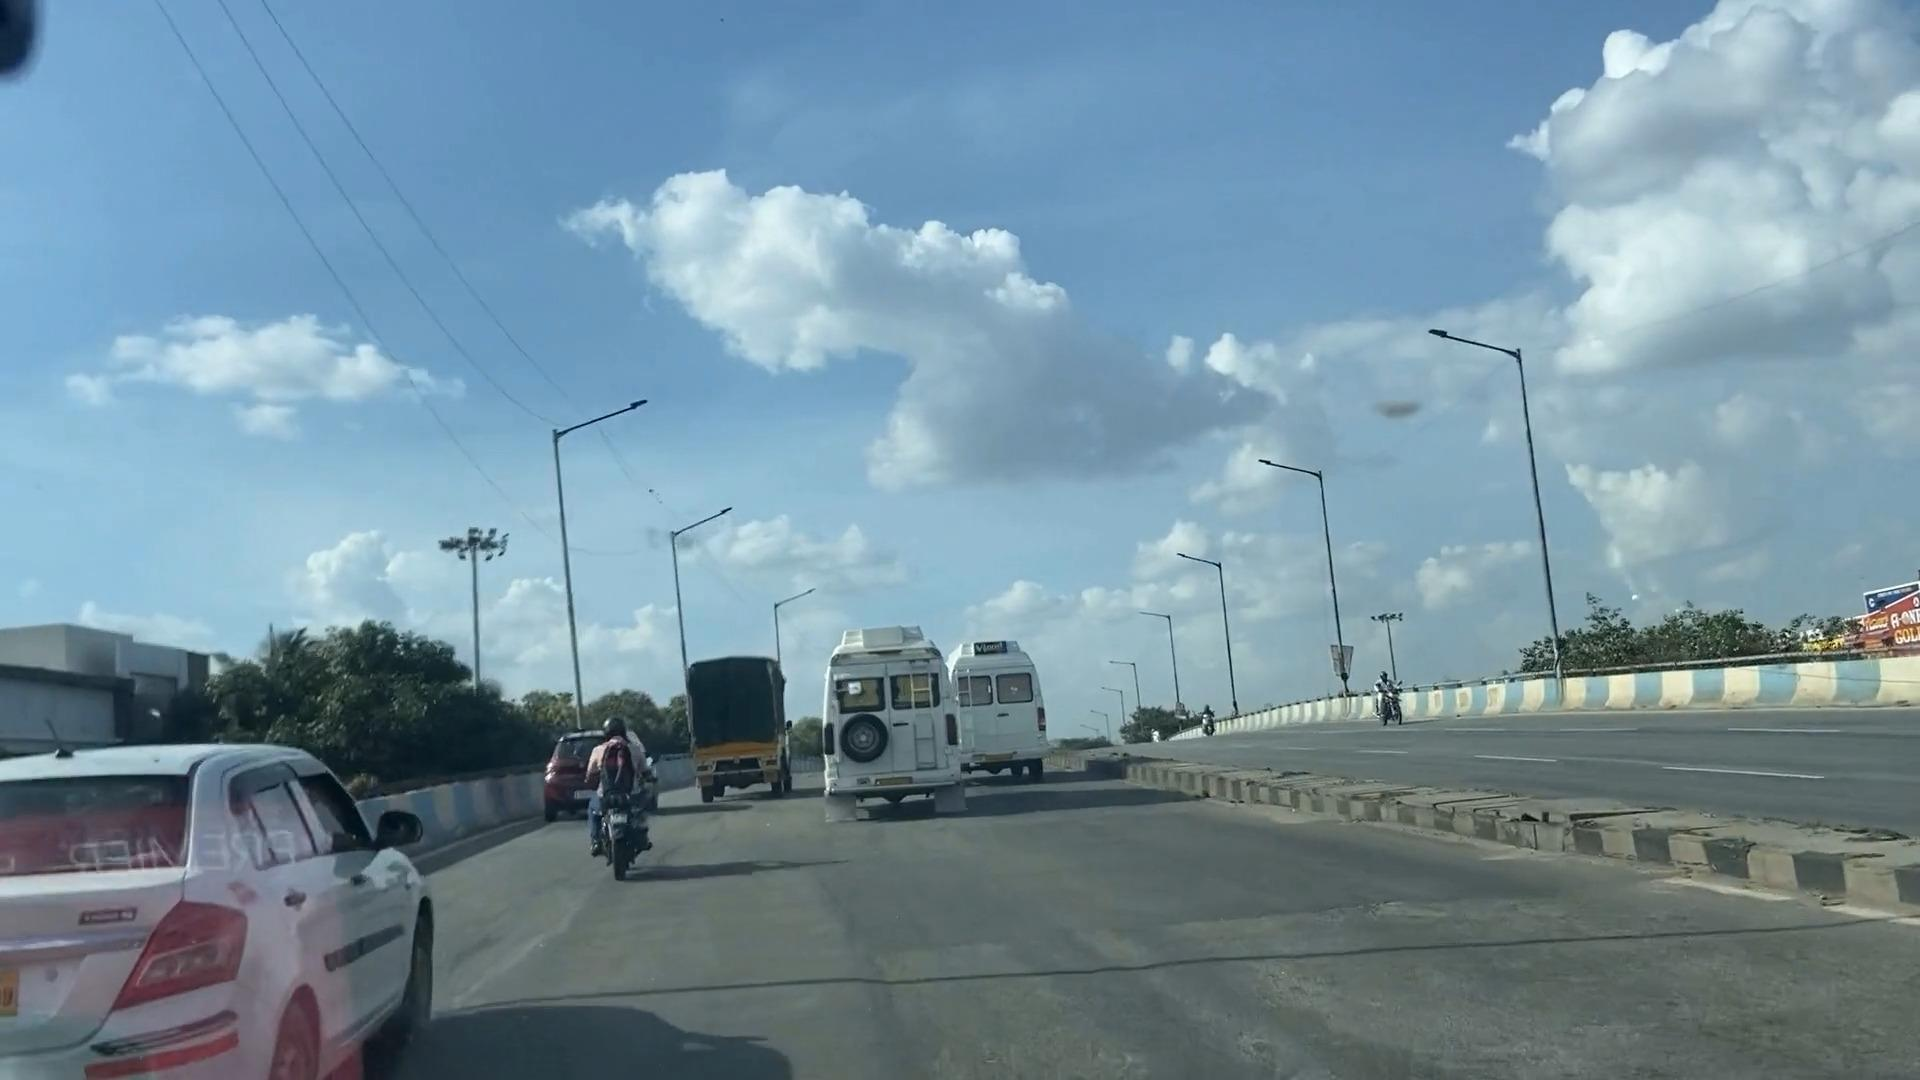HMV: (819, 615, 969, 824), (687, 646, 818, 807), (955, 620, 1060, 795)
LMV: (0, 727, 436, 1080), (588, 716, 662, 872)
